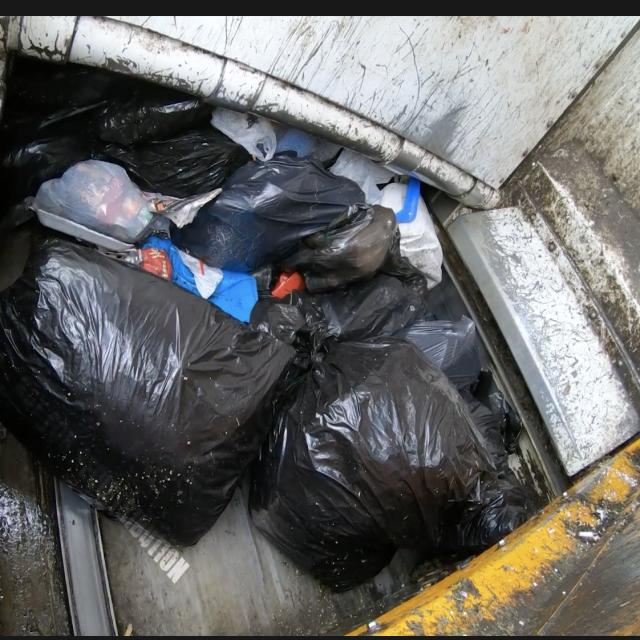bag: (0, 227, 305, 515), (243, 317, 497, 578), (187, 139, 432, 317), (38, 145, 170, 266)
plastic: (139, 227, 276, 321)
